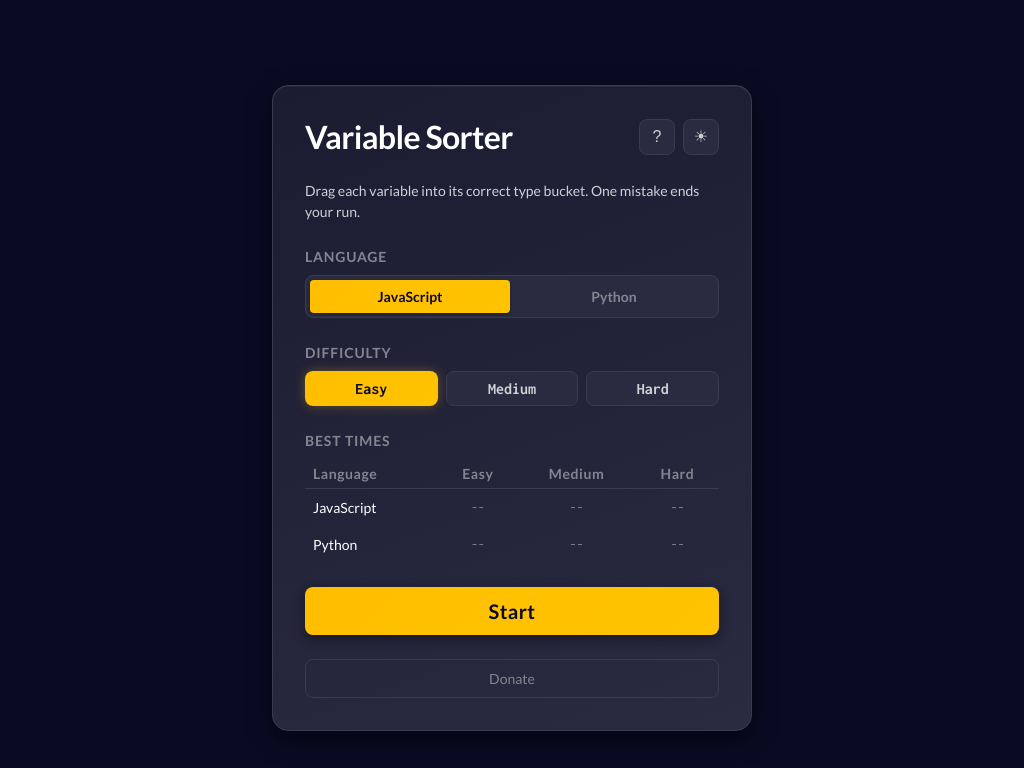
Keyboard sorting › fail screen shows the dropped type and correct type
Click the button "Start" at (512, 611), box top-left (305, 587), bottom-right (719, 635)
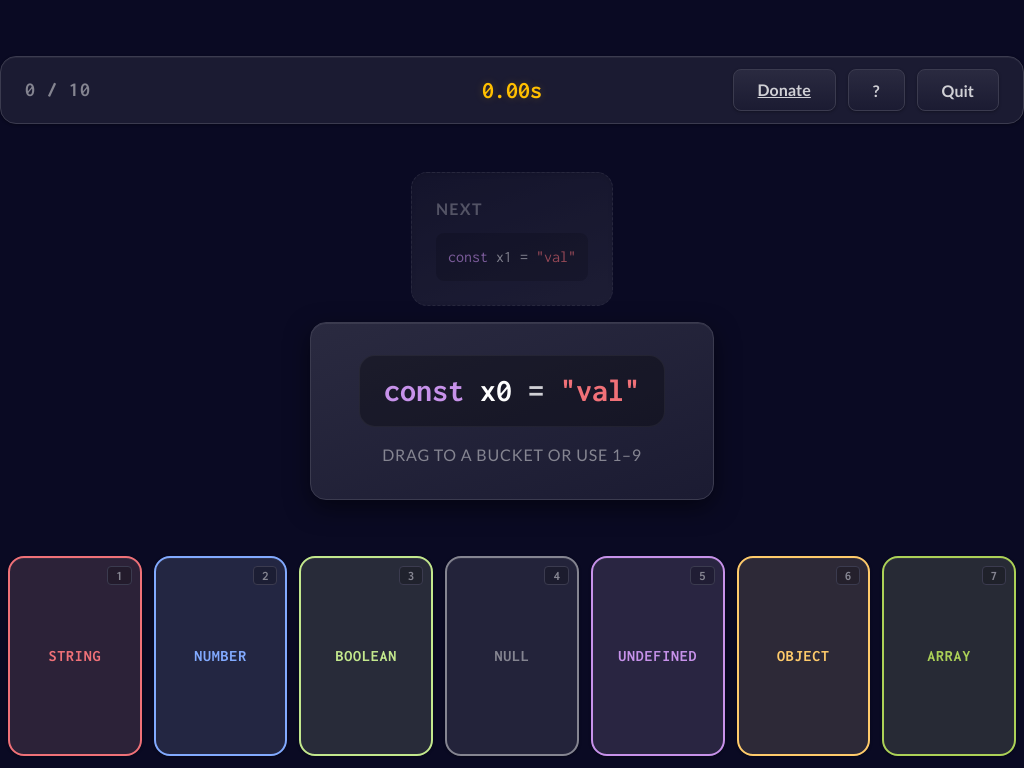
Press 2
Wait 200 ms
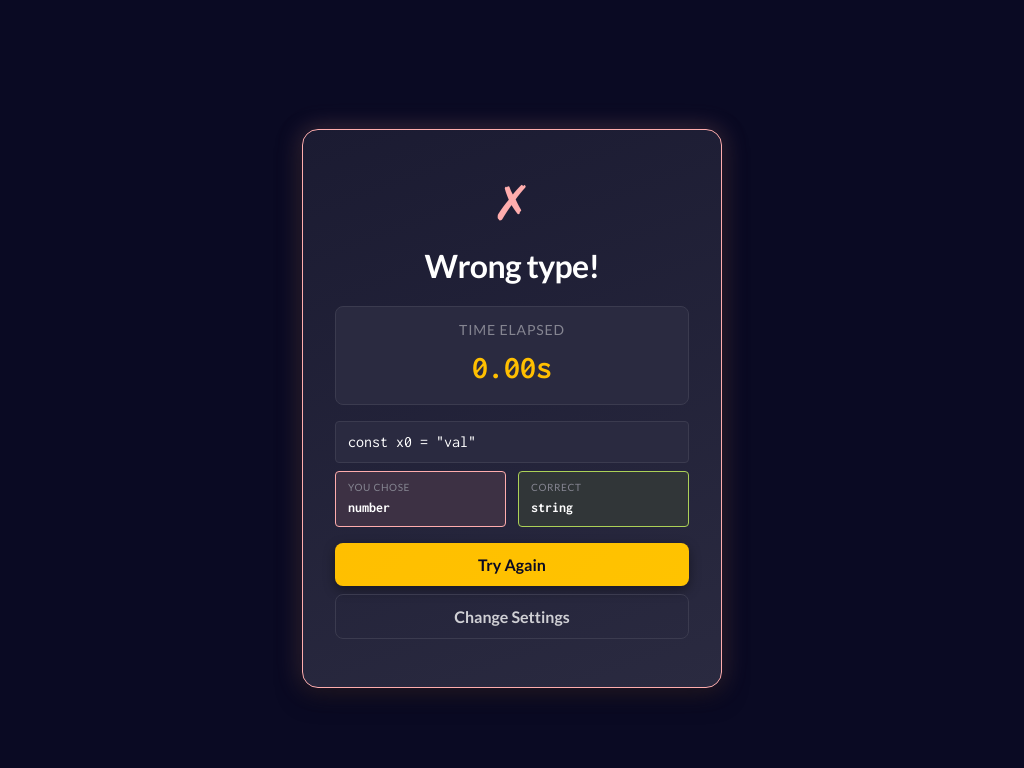
Check: the text "number" is shown, box top-left (348, 500), bottom-right (390, 514)
Check: the text "string" is shown, box top-left (531, 500), bottom-right (573, 514)
Check: the heading "Wrong type!" is shown, box top-left (425, 242), bottom-right (599, 290)
